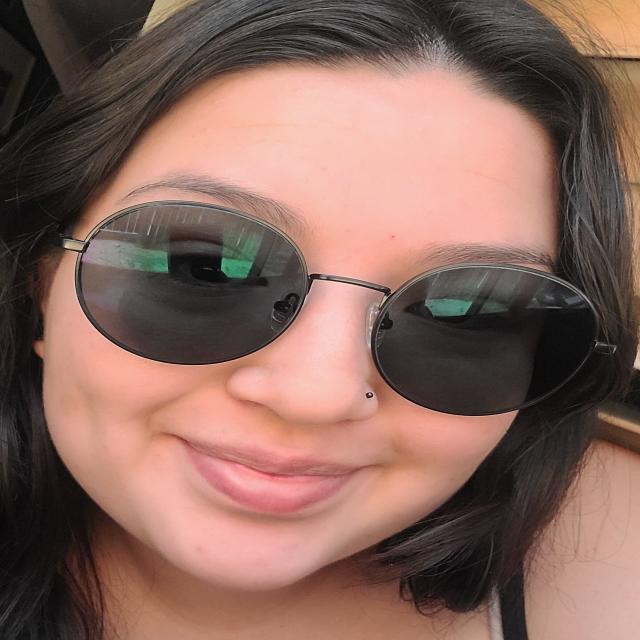2_gafas: (52, 198, 618, 416)
